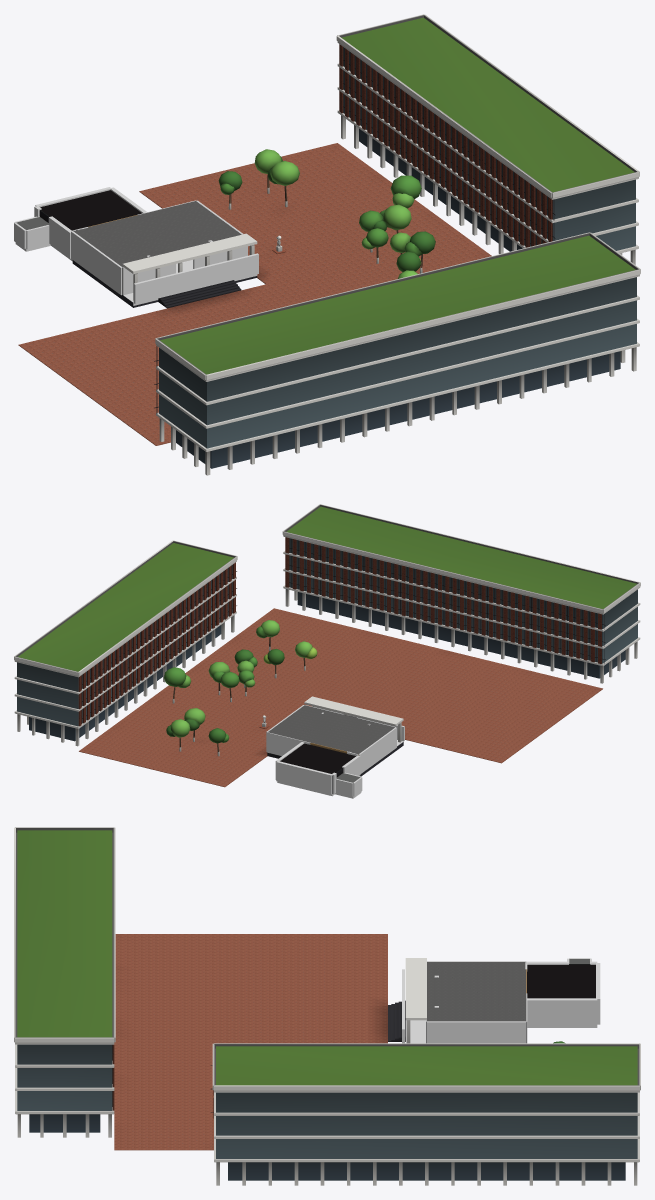
Rendered from zone_03_lobby.glb.
3 renders of one model, top to bottom at view 1: azimuth 30°, elevation 25°; view 2: azimuth 150°, elevation 25°; view 3: azimuth 270°, elevation 25°, orthographic. The views are drawn at different scales.
Parts seen in each view (by area): view 1: ENV_ngoai_troi, ENV_san_gach, ENV_sanh, ENV_cay_san, COL_bien_chieu_nghi, ENV_hat_lua, COL_tuong_tay, COL_hl_tuong_tay_nam; view 2: ENV_ngoai_troi, ENV_san_gach, ENV_cay_san, ENV_sanh, ENV_hat_lua, COL_hl_tuong_bac, COL_tuong_tay, COL_tuong_bac_phai; view 3: ENV_ngoai_troi, ENV_san_gach, ENV_sanh, ENV_hat_lua, COL_vach_kinh_dong, COL_hl_tuong_dong.
Part boxes in pixels (<box>): ENV_ngoai_troi: <box>122,14,640,475</box>; ENV_san_gach: <box>18,143,491,445</box>; ENV_sanh: <box>72,201,257,307</box>; ENV_cay_san: <box>218,149,435,278</box>; COL_bien_chieu_nghi: <box>133,253,258,303</box>; ENV_hat_lua: <box>16,190,141,245</box>; COL_tuong_tay: <box>71,231,122,295</box>; COL_hl_tuong_tay_nam: <box>48,216,71,258</box>; ENV_ngoai_troi: <box>14,504,640,746</box>; ENV_san_gach: <box>79,608,602,787</box>; ENV_cay_san: <box>164,620,317,756</box>; ENV_sanh: <box>267,705,403,776</box>; ENV_hat_lua: <box>280,743,360,793</box>; COL_hl_tuong_bac: <box>276,761,332,794</box>; COL_tuong_tay: <box>359,727,396,773</box>; COL_tuong_bac_phai: <box>267,732,310,755</box>; ENV_ngoai_troi: <box>14,827,640,1185</box>; ENV_san_gach: <box>114,934,387,1150</box>; ENV_sanh: <box>426,962,526,1042</box>; ENV_hat_lua: <box>527,959,595,998</box>; COL_vach_kinh_dong: <box>427,1021,526,1043</box>; COL_hl_tuong_dong: <box>527,998,597,1025</box>.
Size of the model in its own units: 86.58 by 16.58 by 88.3.
Materials: 7 (3 with a texture image).
